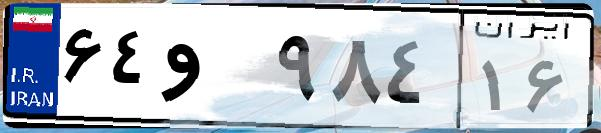1: (475, 38, 525, 113)
4: (385, 28, 445, 110), (110, 28, 158, 98)
6: (57, 26, 110, 100), (525, 38, 570, 115)
8: (330, 28, 385, 110)
9: (270, 28, 330, 110)
و: (158, 20, 270, 120)
